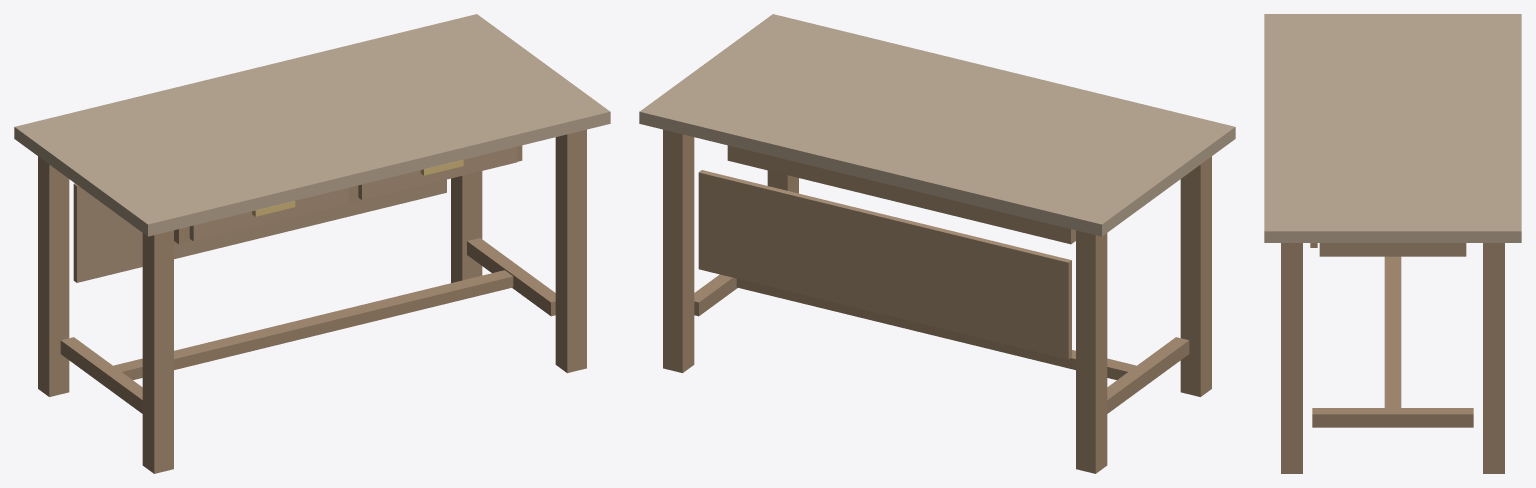
3 views of the same model, side by side, from view 1: azimuth 30°, elevation 25°; view 2: azimuth 150°, elevation 25°; view 3: azimuth 270°, elevation 25° (orthographic). The views are drawn at different scales.
Visible parts, largest first — view 1: Desktop, Legs, FootRail, ModestyPanel, DrawerFronts; view 2: Desktop, ModestyPanel, Legs, FootRail, DrawerBox; view 3: Desktop, Legs, FootRail, DrawerBox.
Boxes of the visible parts, x1,y1,x2,y2 form: Desktop: (14, 14, 610, 236); Legs: (38, 129, 586, 473); FootRail: (60, 238, 555, 413); ModestyPanel: (73, 179, 446, 282); DrawerFronts: (189, 146, 517, 241); Desktop: (639, 14, 1235, 236); ModestyPanel: (698, 170, 1071, 359); Legs: (663, 129, 1211, 473); FootRail: (694, 274, 1189, 413); DrawerBox: (727, 145, 1075, 244); Desktop: (1264, 14, 1521, 242); Legs: (1281, 243, 1504, 473); FootRail: (1312, 256, 1473, 427); DrawerBox: (1319, 243, 1466, 256).
Size of the model in its own units: 1.4 by 0.75 by 0.7.
